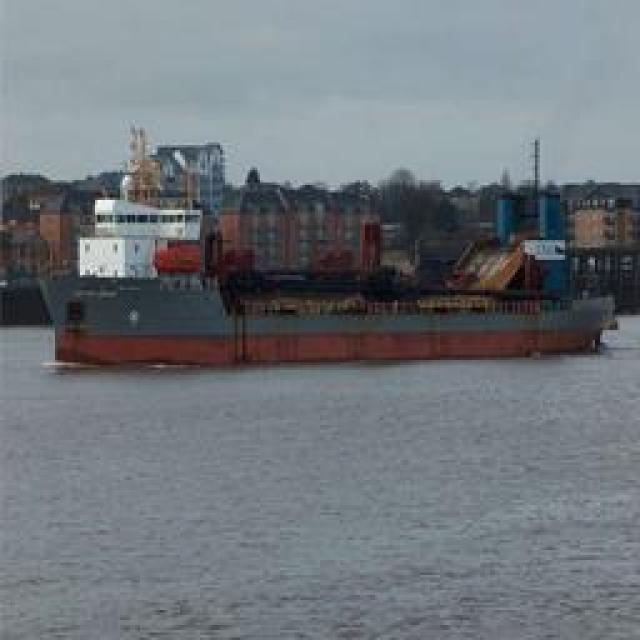CIV_Ship: (46, 288, 616, 366)
